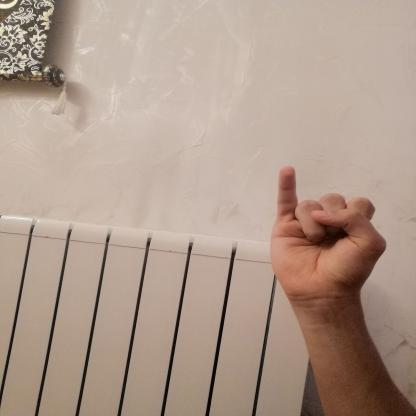MEEM: (255, 155, 402, 309)
